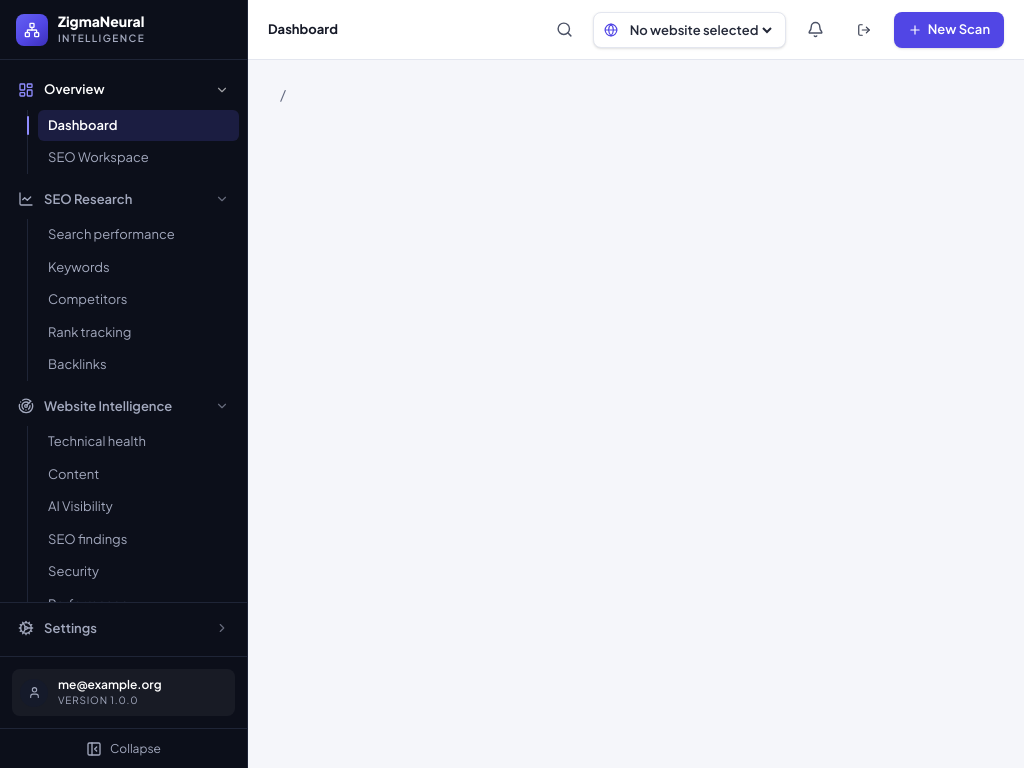
Shell navigation › jumps to a page from the command launcher (Ctrl+K, type, Enter)
Expected: the text "me@example.org" is shown, [58,677,162,692]
Type keys "{Control>}k{/Control}"
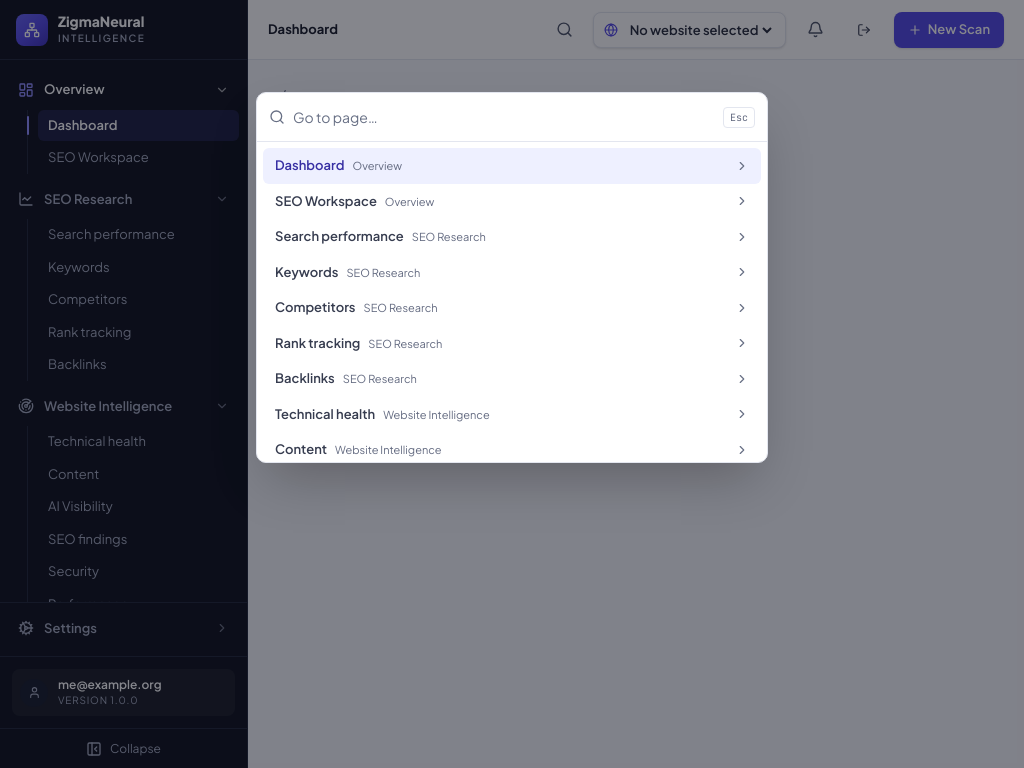
Type "referring" into the field named "Search pages" at (504, 117), box [293,93,715,141]
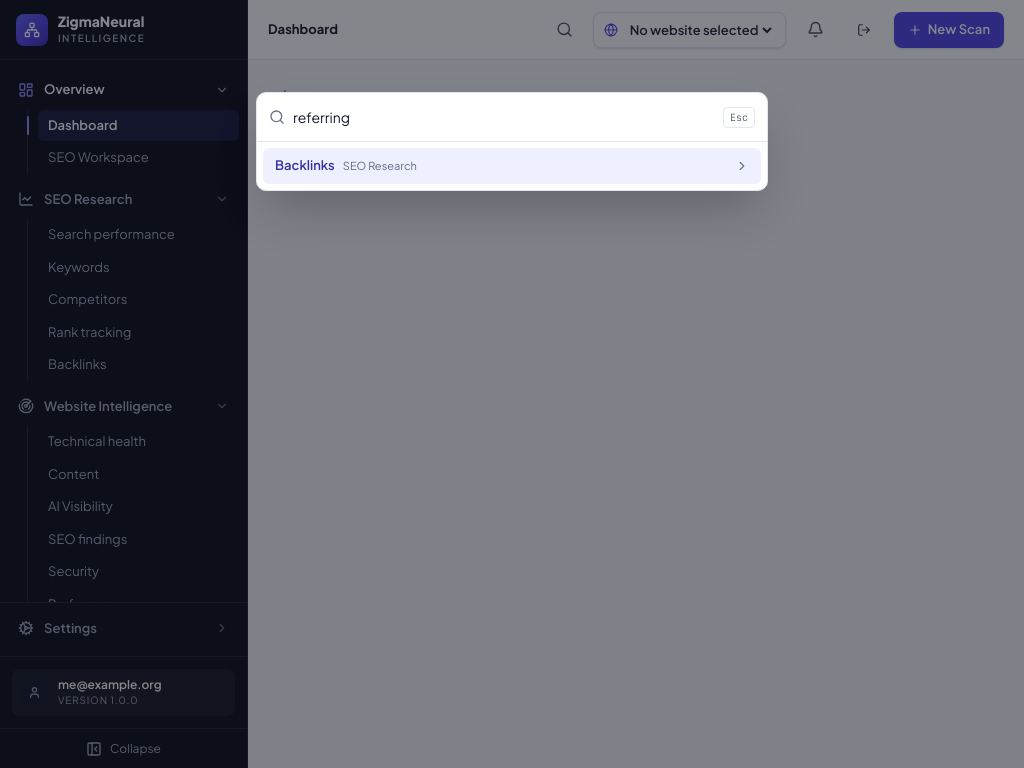
Result: the option shows "Backlinks" at [263,148,761,184]
Result: the number of options is 1 at [263,148,761,184]
Press Enter
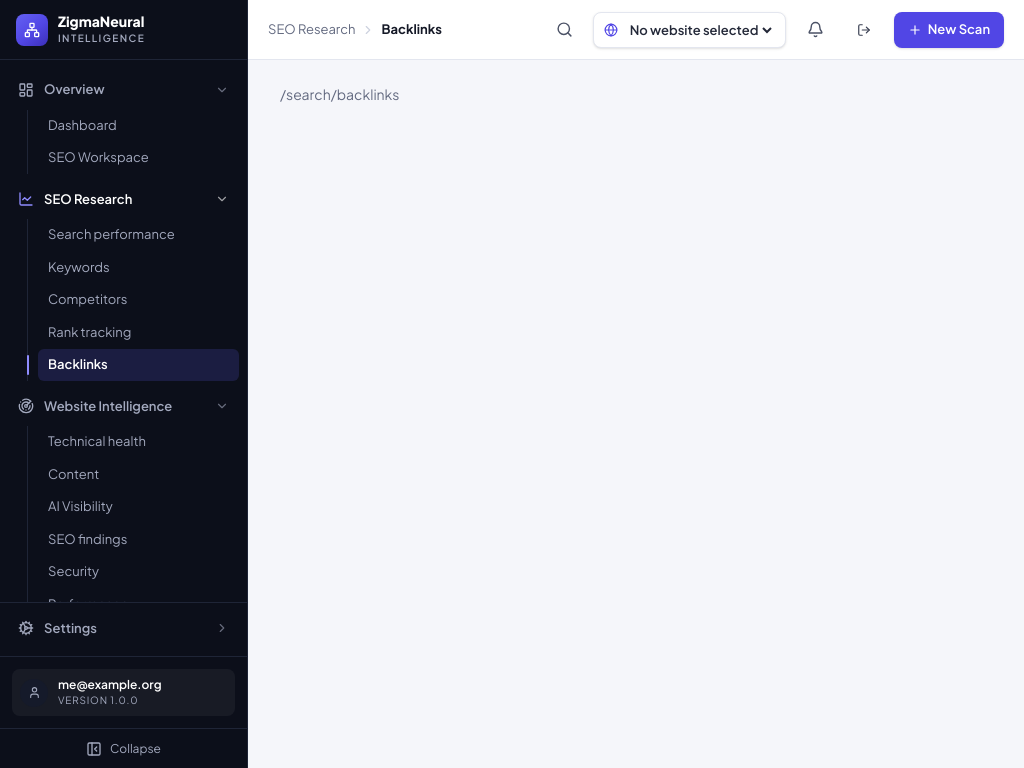
Result: the text with test id "where" reads "/search/backlinks" at [280,85,399,103]
Result: the field labelled "Pages" is gone
